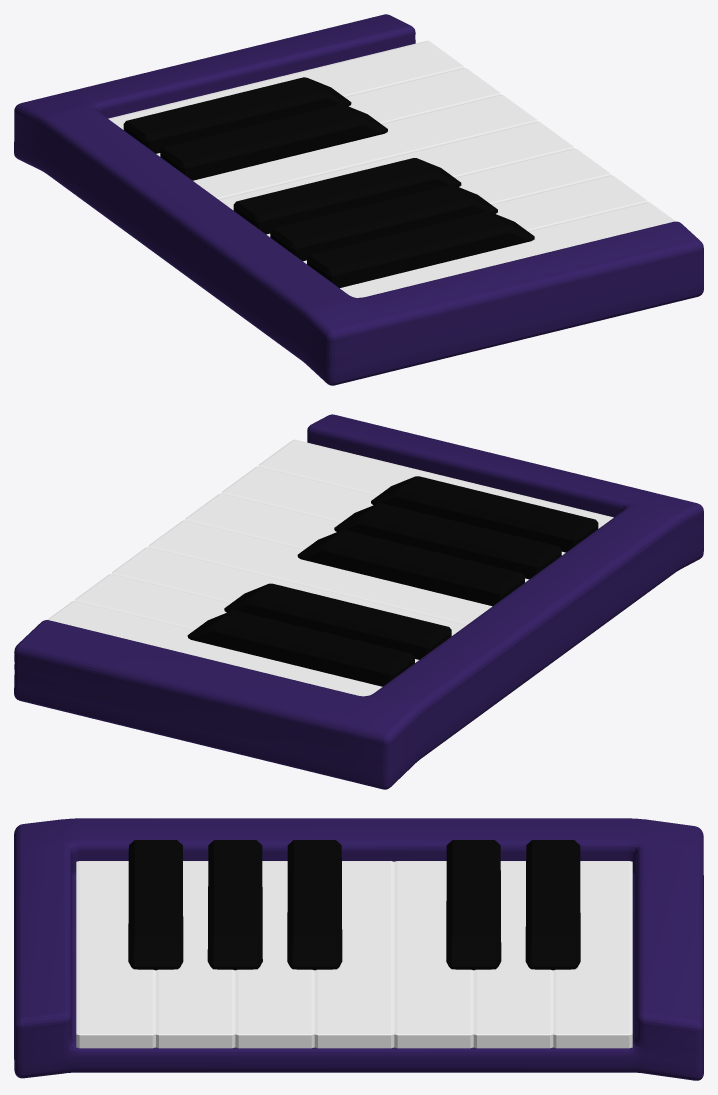
The model's file is piano_수정4.fbx.
The picture shows the model from 3 angles, top to bottom: view 1: azimuth 30°, elevation 25°; view 2: azimuth 150°, elevation 25°; view 3: azimuth 270°, elevation 25°; orthographic projection. The views are drawn at different scales.
Visible parts, largest first — view 1: Plane, White.006, Black.004, Black.001, Black, Black.002, Black.003, White.002, White.005, White.008, White.004, White.007 (+1 smaller); view 2: Plane, White.005, Black, Black.002, Black.004, Black.001, Black.003, White.008, White.002, White.006, White.004, White.003 (+1 smaller); view 3: Plane, White.005, White.002, White.006, White.008, White.004, White.007, White.003, Black.004, Black, Black.002, Black.001 (+1 smaller).
Boxes of the visible parts, x1,y1,x2,y2 form: Plane: [14, 14, 703, 385]; White.006: [193, 94, 537, 198]; Black.004: [307, 211, 534, 288]; Black.001: [160, 104, 387, 180]; Black: [123, 77, 351, 153]; Black.002: [233, 158, 461, 234]; Black.003: [270, 185, 497, 261]; White.002: [340, 202, 675, 297]; White.005: [218, 121, 573, 210]; White.008: [108, 41, 463, 129]; White.004: [266, 148, 610, 236]; White.007: [156, 67, 500, 156]; Plane: [14, 414, 703, 789]; White.005: [148, 520, 492, 624]; Black: [187, 610, 414, 686]; Black.002: [297, 530, 524, 606]; Black.004: [371, 476, 598, 552]; Black.001: [224, 583, 451, 659]; Black.003: [334, 503, 561, 579]; White.008: [47, 600, 382, 696]; White.002: [258, 439, 613, 528]; White.006: [112, 547, 466, 635]; White.004: [185, 493, 528, 582]; White.003: [222, 466, 565, 555]; Plane: [14, 818, 703, 1080]; White.005: [314, 861, 394, 1048]; White.002: [76, 861, 155, 1048]; White.006: [394, 861, 473, 1048]; White.008: [553, 861, 632, 1048]; White.004: [235, 861, 314, 1048]; White.007: [473, 861, 553, 1048]; White.003: [156, 861, 235, 1048]; Black.004: [128, 840, 183, 970]; Black: [525, 840, 580, 970]; Black.002: [287, 840, 342, 970]; Black.001: [446, 840, 501, 970].
Bounding box in the file's own units: 160 × 27.04 × 230.
